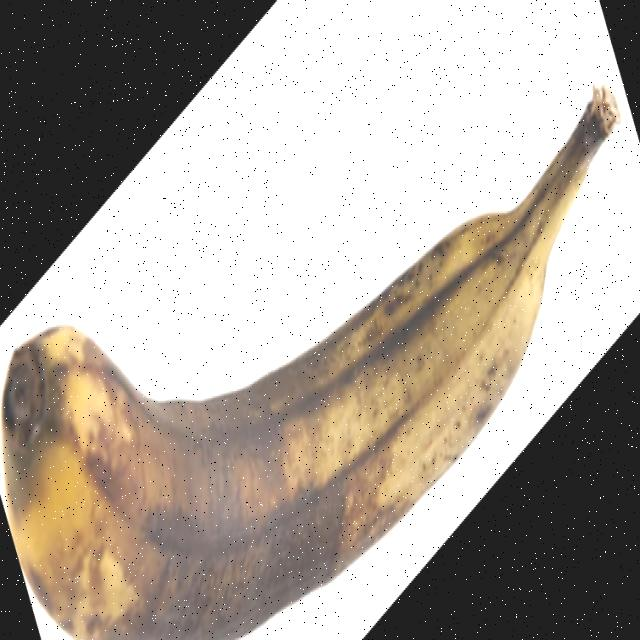Rotten: (1, 86, 622, 640)
